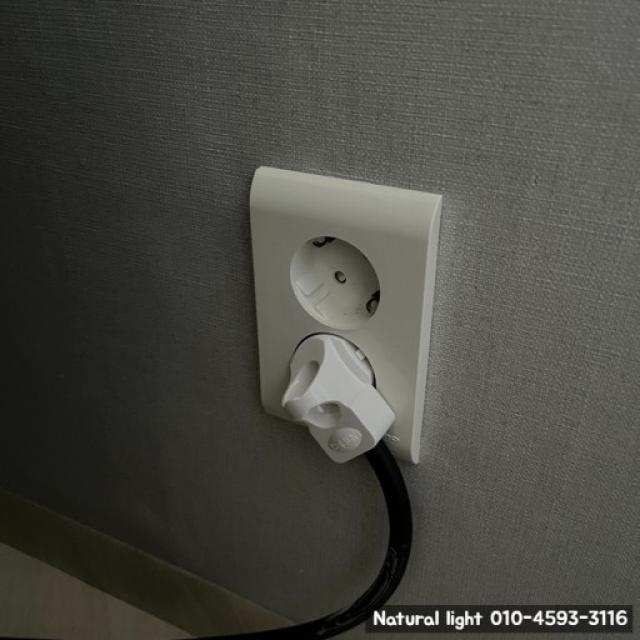typeb: (234, 161, 476, 496)
